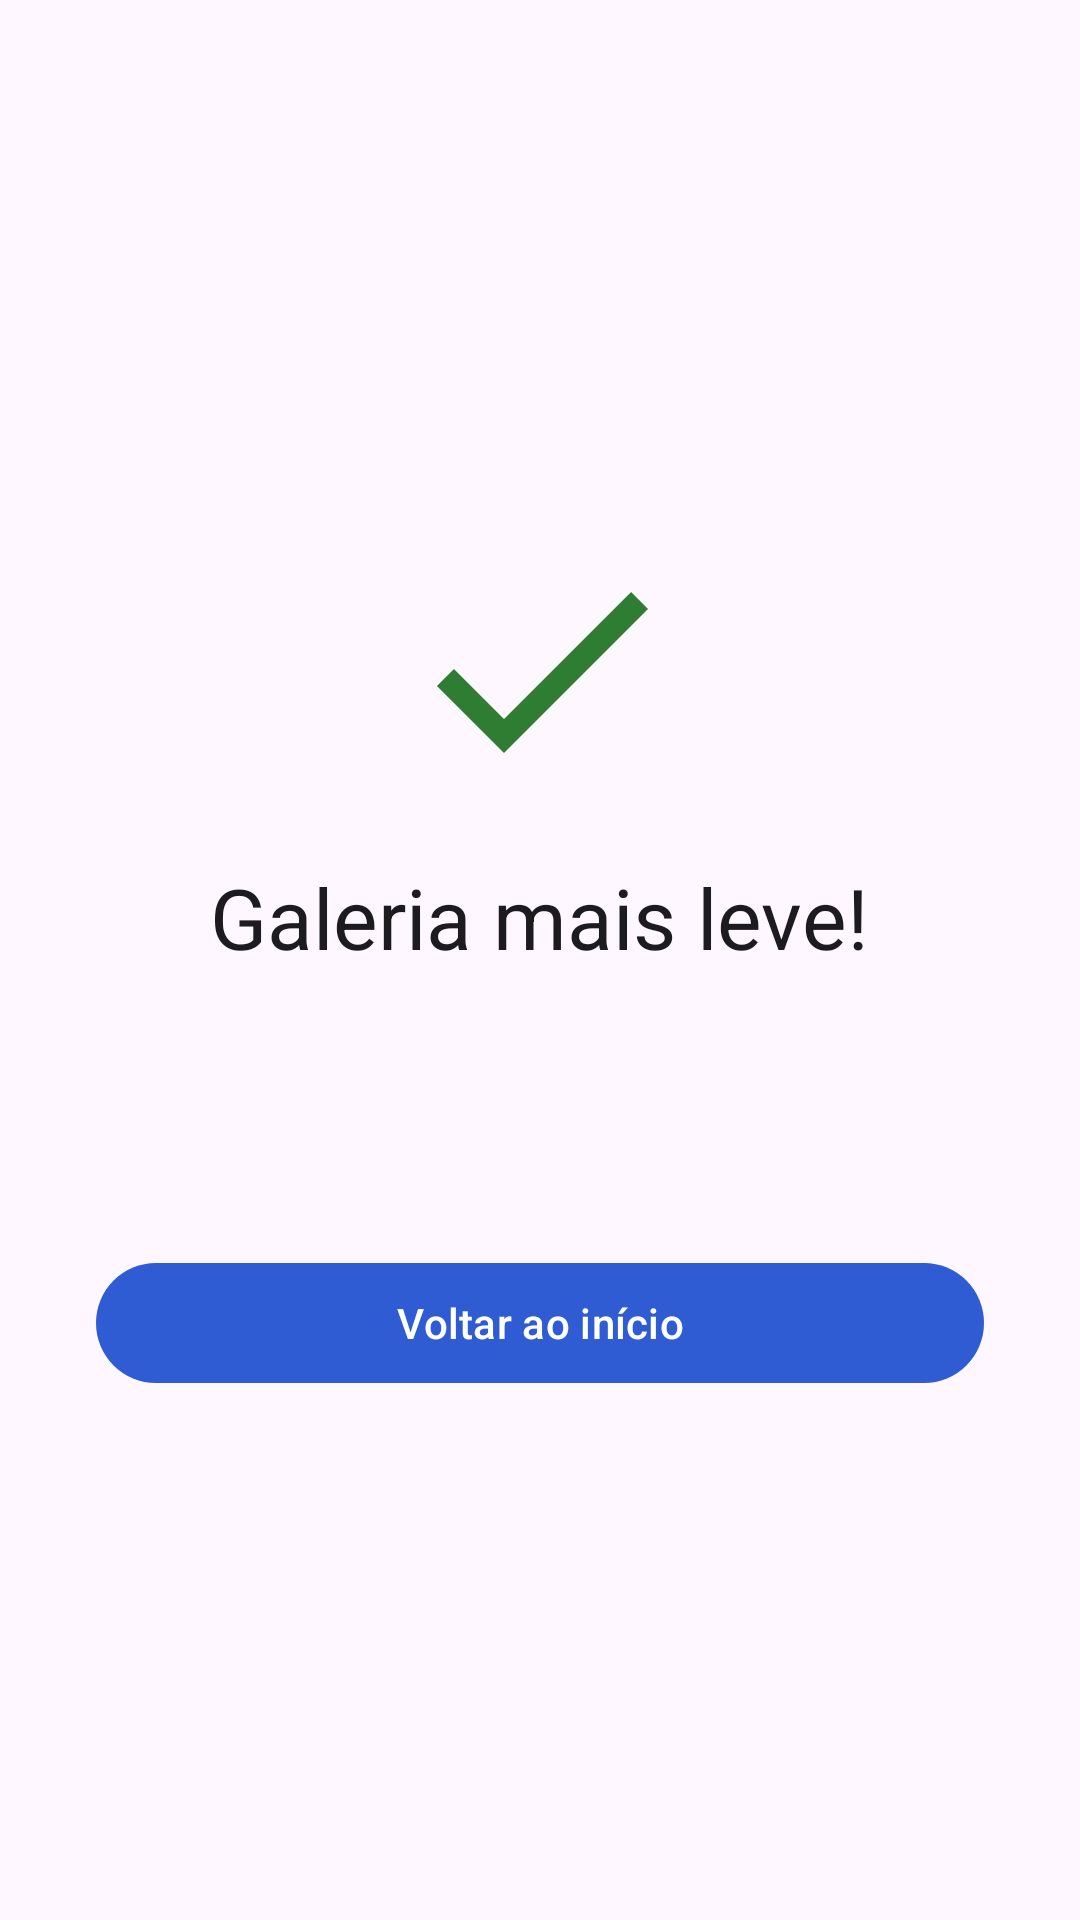

Screen size 1080×1920. Icon name, then its box in pixels as (left=x1, top=y1, right=x2, bottom=y2):
check: (left=437, top=592, right=648, bottom=753)
